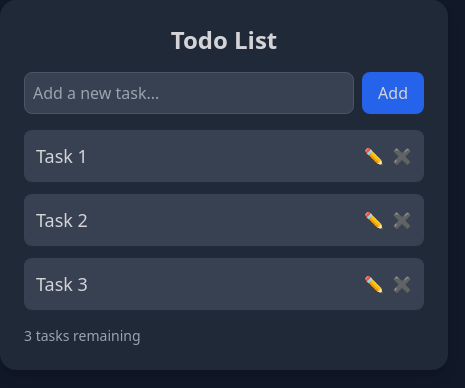
Test: update task when its saved and render it
expect the text "Task 1" is shown: met, box [36,142,88,170]
Click the button "✏️" in the row of "Task 1" at (374, 156), box [364,144,384,168]
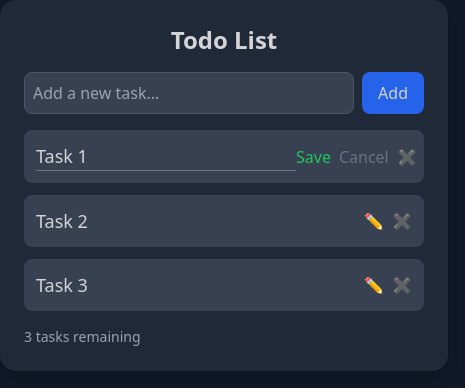
Replace the text in the field showing "Task 1" with "Updated Task 1" at (166, 156), box [36,142,296,171]
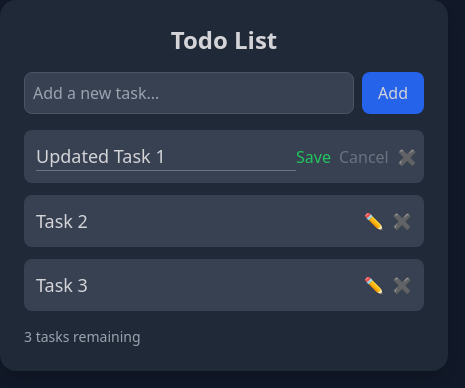
Click the button "Save" at (313, 156), box [296,144,331,168]
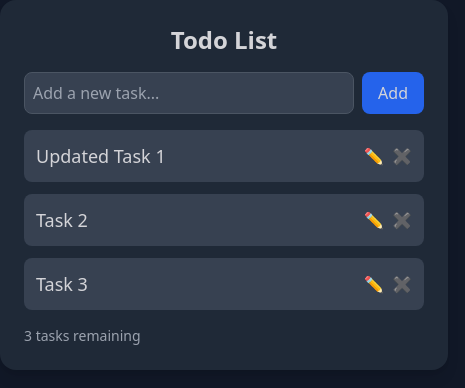
expect the text "Updated Task 1" is shown: met, box [36,142,166,170]
